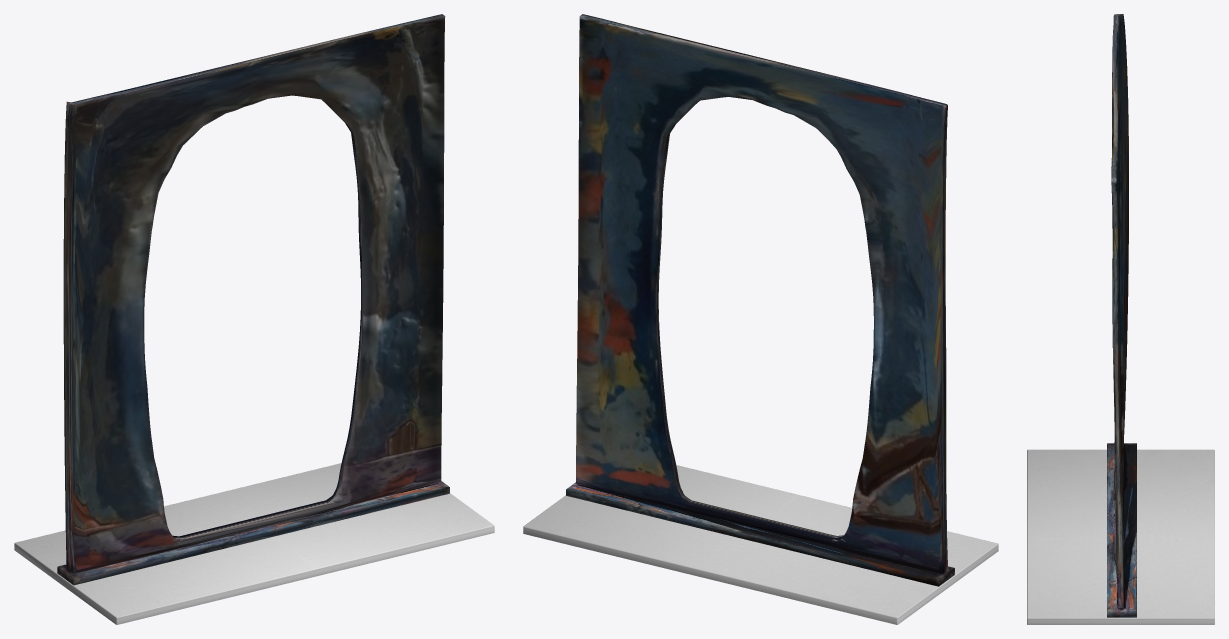
The model's file is 17-ignatievOhtaLahta.fbx.
3 views of the same model, side by side, from view 1: azimuth 30°, elevation 25°; view 2: azimuth 150°, elevation 25°; view 3: azimuth 270°, elevation 25° (orthographic). The views are drawn at different scales.
Visible parts, largest first — view 1: ignatievOhtaLahta; view 2: ignatievOhtaLahta; view 3: ignatievOhtaLahta.
Part boxes in pixels (left/top/right/bottom): ignatievOhtaLahta: left=14, top=14, right=494, bottom=624; ignatievOhtaLahta: left=523, top=14, right=998, bottom=624; ignatievOhtaLahta: left=1027, top=14, right=1214, bottom=624.
Bounding box in the file's own units: 162 × 198 × 75.91.
